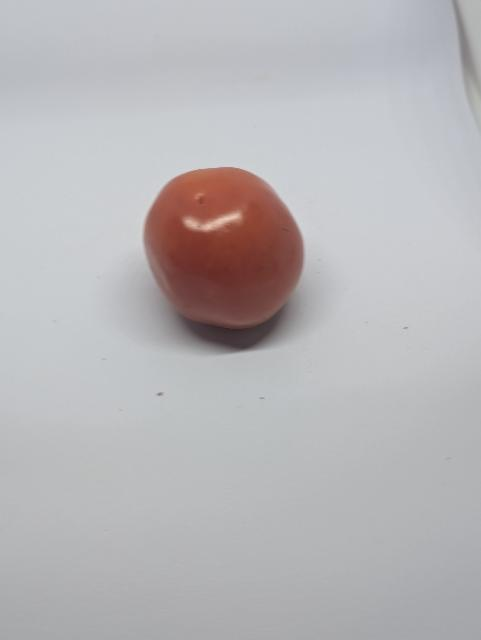red: (133, 148, 328, 349)
